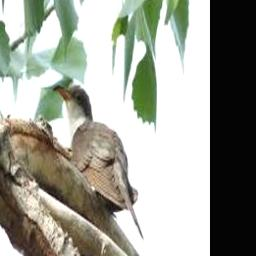Cuckoo: (53, 83, 144, 241)
